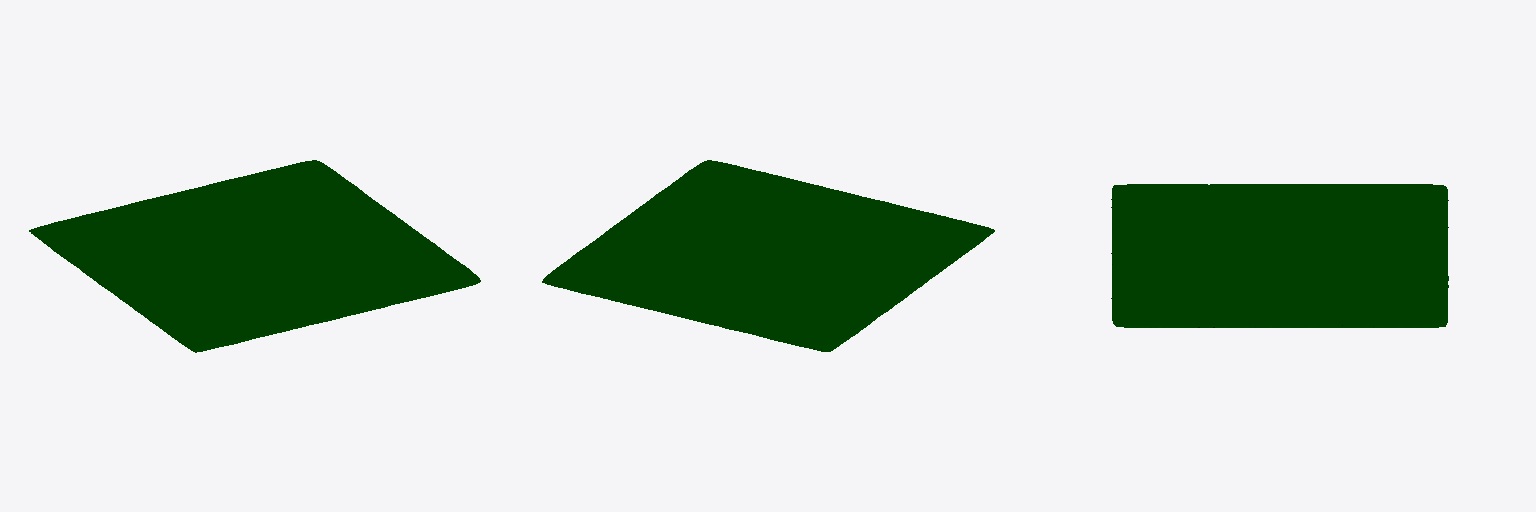
The model's file is Ground.obj.
3 views of the same model, side by side, from view 1: azimuth 30°, elevation 25°; view 2: azimuth 150°, elevation 25°; view 3: azimuth 270°, elevation 25° (orthographic).
Parts seen in each view (by area): view 1: Ground_Ground.001; view 2: Ground_Ground.001; view 3: Ground_Ground.001.
Part boxes in pixels (x1,y1,x2,y2): Ground_Ground.001: (29, 160, 480, 352); Ground_Ground.001: (542, 160, 994, 351); Ground_Ground.001: (1111, 184, 1448, 327).
Size of the model in its own units: 75.55 by 0.5036 by 75.52.